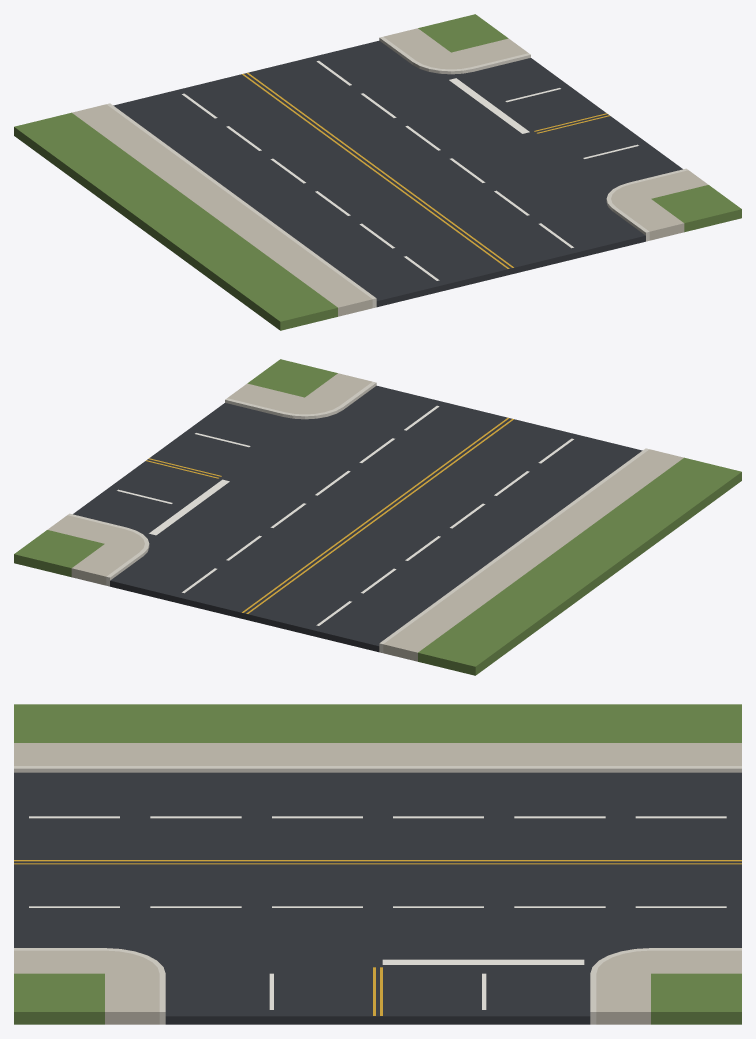
The model's file is Road_4Lane_Sidewalk_Intersection_T.glb.
3 views of the same model, one above another, from view 1: azimuth 30°, elevation 25°; view 2: azimuth 150°, elevation 25°; view 3: azimuth 270°, elevation 25° (orthographic). The views are drawn at different scales.
Visible parts, largest first — view 1: Road_4Lane_Sidewalk_Intersection_T_Asphalt, Road_4Lane_Sidewalk_Intersection_T_Grass-edge, Road_4Lane_Sidewalk_Intersection_T_Sidewalk, Road_4Lane_Sidewalk_Intersection_T_Curb, Road_4Lane_Sidewalk_Intersection_T_PaintWhite, Road_4Lane_Sidewalk_Intersection_T_PaintYellow; view 2: Road_4Lane_Sidewalk_Intersection_T_Asphalt, Road_4Lane_Sidewalk_Intersection_T_Grass-edge, Road_4Lane_Sidewalk_Intersection_T_Sidewalk, Road_4Lane_Sidewalk_Intersection_T_Curb, Road_4Lane_Sidewalk_Intersection_T_PaintWhite, Road_4Lane_Sidewalk_Intersection_T_PaintYellow; view 3: Road_4Lane_Sidewalk_Intersection_T_Asphalt, Road_4Lane_Sidewalk_Intersection_T_Grass-edge, Road_4Lane_Sidewalk_Intersection_T_Sidewalk, Road_4Lane_Sidewalk_Intersection_T_Curb, Road_4Lane_Sidewalk_Intersection_T_PaintWhite, Road_4Lane_Sidewalk_Intersection_T_PaintYellow.
Part boxes in pixels (left/top/right/bottom): Road_4Lane_Sidewalk_Intersection_T_Asphalt: left=113, top=40, right=682, bottom=307; Road_4Lane_Sidewalk_Intersection_T_Grass-edge: left=14, top=14, right=741, bottom=330; Road_4Lane_Sidewalk_Intersection_T_Sidewalk: left=72, top=28, right=708, bottom=316; Road_4Lane_Sidewalk_Intersection_T_Curb: left=106, top=37, right=688, bottom=307; Road_4Lane_Sidewalk_Intersection_T_PaintWhite: left=182, top=60, right=638, bottom=280; Road_4Lane_Sidewalk_Intersection_T_PaintYellow: left=242, top=72, right=609, bottom=268; Road_4Lane_Sidewalk_Intersection_T_Asphalt: left=73, top=385, right=642, bottom=652; Road_4Lane_Sidewalk_Intersection_T_Grass-edge: left=14, top=359, right=741, bottom=675; Road_4Lane_Sidewalk_Intersection_T_Sidewalk: left=47, top=373, right=683, bottom=661; Road_4Lane_Sidewalk_Intersection_T_Curb: left=67, top=382, right=649, bottom=652; Road_4Lane_Sidewalk_Intersection_T_PaintWhite: left=117, top=405, right=573, bottom=625; Road_4Lane_Sidewalk_Intersection_T_PaintYellow: left=146, top=417, right=513, bottom=613; Road_4Lane_Sidewalk_Intersection_T_Asphalt: left=14, top=772, right=741, bottom=1024; Road_4Lane_Sidewalk_Intersection_T_Grass-edge: left=14, top=704, right=741, bottom=1024; Road_4Lane_Sidewalk_Intersection_T_Sidewalk: left=14, top=743, right=741, bottom=1024; Road_4Lane_Sidewalk_Intersection_T_Curb: left=14, top=766, right=741, bottom=1024; Road_4Lane_Sidewalk_Intersection_T_PaintWhite: left=29, top=816, right=726, bottom=1009; Road_4Lane_Sidewalk_Intersection_T_PaintYellow: left=14, top=860, right=741, bottom=1015.
Bounding box in the file's own units: 24 × 0.45 × 24.
